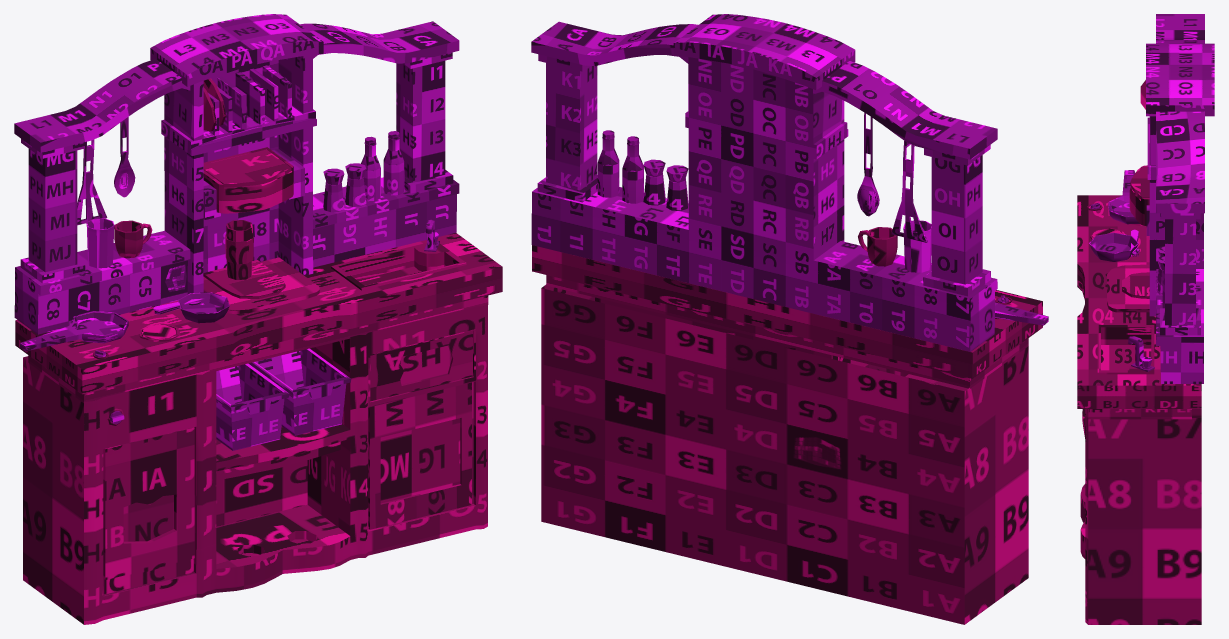
The model's file is ToyModel.fbx.
3 views of the same model, side by side, from view 1: azimuth 30°, elevation 25°; view 2: azimuth 150°, elevation 25°; view 3: azimuth 270°, elevation 25° (orthographic). The views are drawn at different scales.
Visible parts, largest first — view 1: White_Low, lightPink_Low, darkPink_Low, Oven_Door_Low, Fridge_Door_Low, Basket1_Low, Basket1_Low1, Microwave_Door_Low, Coffee_Maker_Base_Low, Pan_Low, Coffee_Maker_Top_Low, Thermos_Low (+9 smaller); view 2: lightPink_Low, White_Low, darkPink_Low, Spatula_Low, Sauce1_Low1, Sauce1_Low, Cup1_Low, Laddle_Low, Mug_Base_Low, PepperShaker_Low1, PepperShaker_Low2, Pan_Low; view 3: lightPink_Low, White_Low, darkPink_Low, Bowl1_Low, Pan_Low, Coffee_Maker_Base_Low, Coffee_Maker_Top_Low, Faucet_Low, PepperShaker_Low1.
Boxes of the visible parts, box(x1,y1,x2,y2) form: White_Low: box(14, 14, 459, 334); lightPink_Low: box(23, 304, 487, 624); darkPink_Low: box(15, 233, 502, 402); Oven_Door_Low: box(103, 427, 194, 594); Fridge_Door_Low: box(368, 382, 471, 529); Basket1_Low: box(248, 348, 351, 435); Basket1_Low1: box(216, 363, 289, 450); Microwave_Door_Low: box(370, 331, 472, 401); Coffee_Maker_Base_Low: box(203, 147, 293, 213); Pan_Low: box(20, 311, 128, 351); Coffee_Maker_Top_Low: box(203, 149, 291, 187); Thermos_Low: box(225, 220, 253, 279); lightPink_Low: box(541, 284, 1028, 624); White_Low: box(531, 14, 997, 351); darkPink_Low: box(532, 245, 1042, 388); Spatula_Low: box(891, 141, 927, 242); Sauce1_Low1: box(597, 130, 619, 197); Sauce1_Low: box(622, 136, 643, 203); Cup1_Low: box(903, 220, 931, 272); Laddle_Low: box(857, 112, 879, 216); Mug_Base_Low: box(867, 227, 897, 266); PepperShaker_Low1: box(643, 159, 665, 205); PepperShaker_Low2: box(666, 165, 688, 210); Pan_Low: box(995, 302, 1048, 325); lightPink_Low: box(1080, 409, 1201, 624); White_Low: box(1146, 14, 1214, 383); darkPink_Low: box(1077, 195, 1201, 419); Bowl1_Low: box(1089, 232, 1138, 261); Pan_Low: box(1108, 170, 1139, 224); Coffee_Maker_Base_Low: box(1129, 165, 1149, 225); Coffee_Maker_Top_Low: box(1130, 166, 1149, 199); Faucet_Low: box(1128, 336, 1154, 371); PepperShaker_Low1: box(1157, 256, 1164, 295).
Size of the model in its own units: 10.05 by 10.69 by 2.85.
2 materials, 2 textured.
